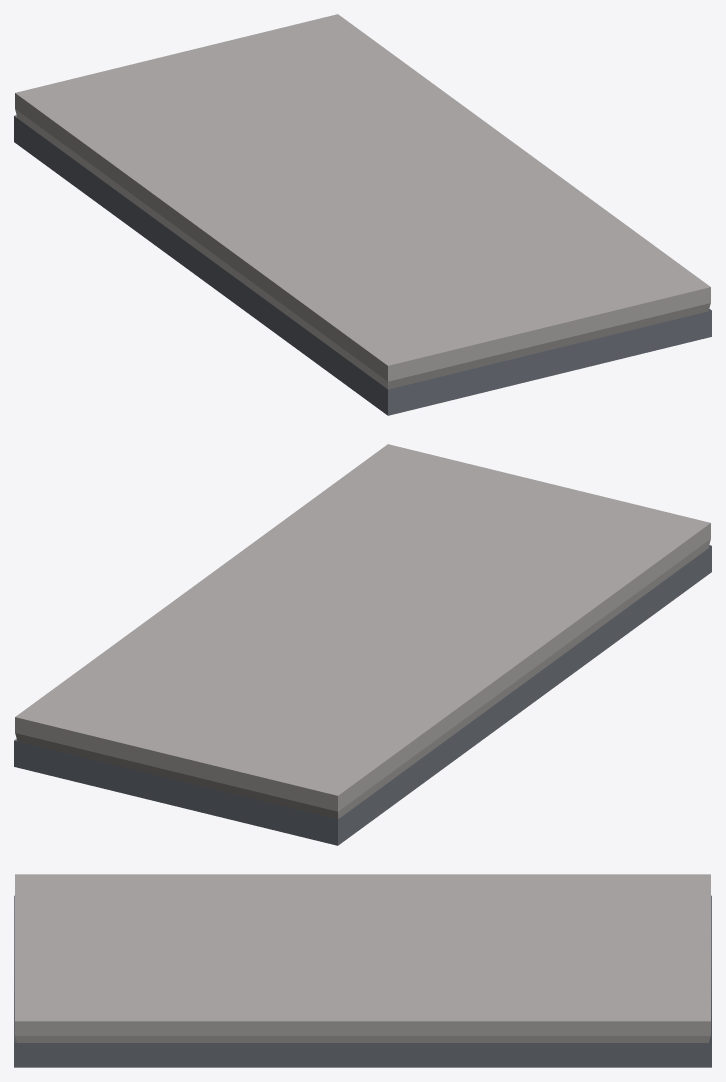
The model's file is SM_Prop_CeilingLight1.fbx.
The picture shows the model from 3 angles, top to bottom: view 1: azimuth 30°, elevation 25°; view 2: azimuth 150°, elevation 25°; view 3: azimuth 270°, elevation 25°; orthographic projection. The views are drawn at different scales.
Parts seen in each view (by area): view 1: SM_Prop_CeilingLight1; view 2: SM_Prop_CeilingLight1; view 3: SM_Prop_CeilingLight1.
Part boxes in pixels (x1=…): SM_Prop_CeilingLight1: x1=14, y1=14, x2=711, y2=415; SM_Prop_CeilingLight1: x1=14, y1=444, x2=711, y2=845; SM_Prop_CeilingLight1: x1=14, y1=874, x2=711, y2=1067.
Size of the model in its own units: 79.93 by 13.47 by 160.
2 materials, 2 textured.
